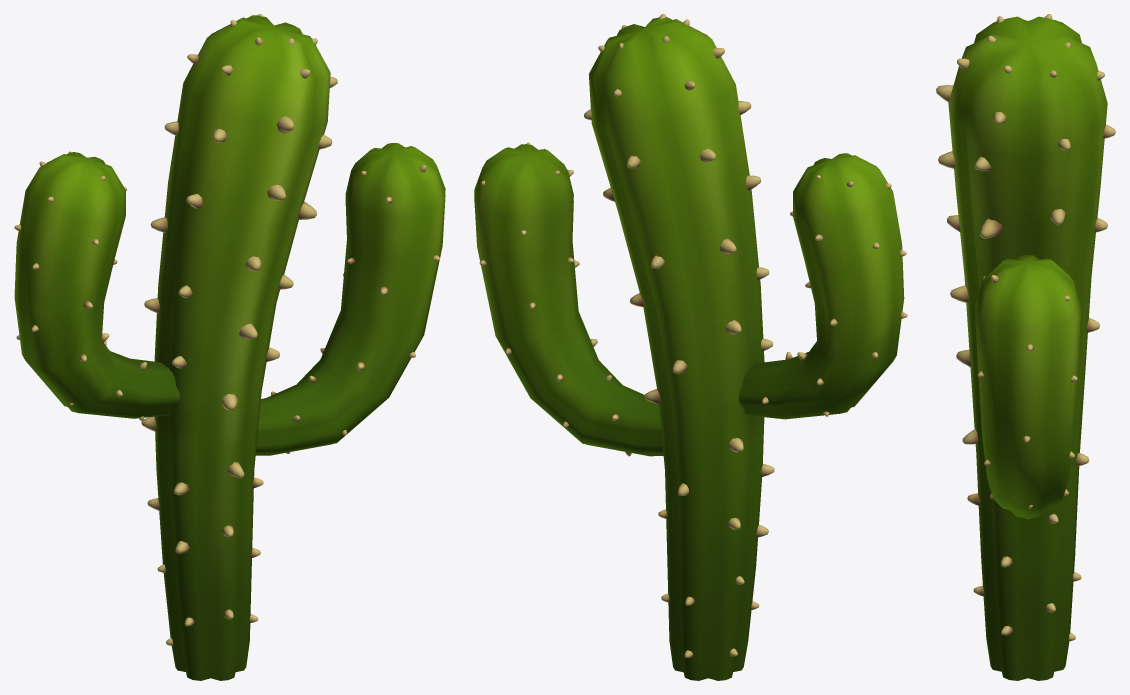
File: uploads_files_835481_Cactus.FBX
3 renders of one model, left to right at view 1: azimuth 30°, elevation 25°; view 2: azimuth 150°, elevation 25°; view 3: azimuth 270°, elevation 25°, orthographic. The views are drawn at different scales.
Visible parts, largest first — view 1: Sphere002; view 2: Sphere002; view 3: Sphere002.
Part boxes in pixels (<box>): Sphere002: <box>14,14,445,680</box>; Sphere002: <box>474,14,907,680</box>; Sphere002: <box>936,14,1115,680</box>.
Size of the model in its own units: 69.32 by 99.29 by 24.17.
Materials: 1 (1 with a texture image).
